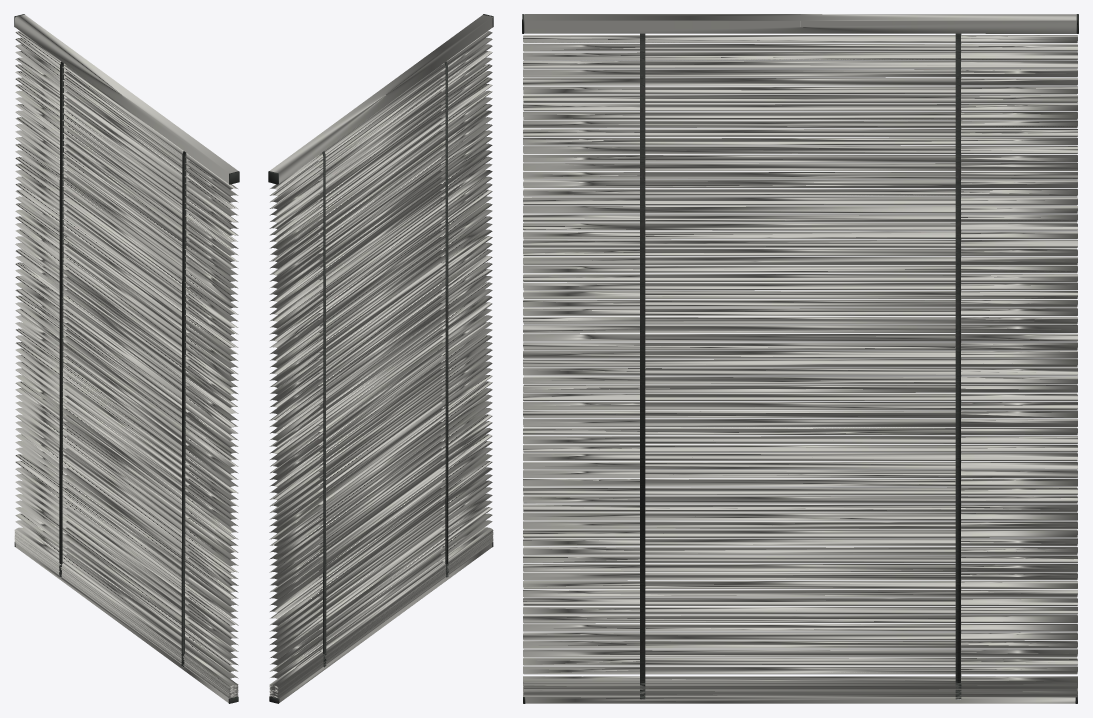
The model's file is SR-blinds_window_2m_open_a01.glb.
The picture shows the model from 3 angles, left to right: view 1: azimuth 30°, elevation 25°; view 2: azimuth 150°, elevation 25°; view 3: azimuth 270°, elevation 25°; orthographic projection. The views are drawn at different scales.
Bounding box in the file's own units: 0.0558 × 2.57 × 1.89.
Materials: 4 (3 with a texture image).
